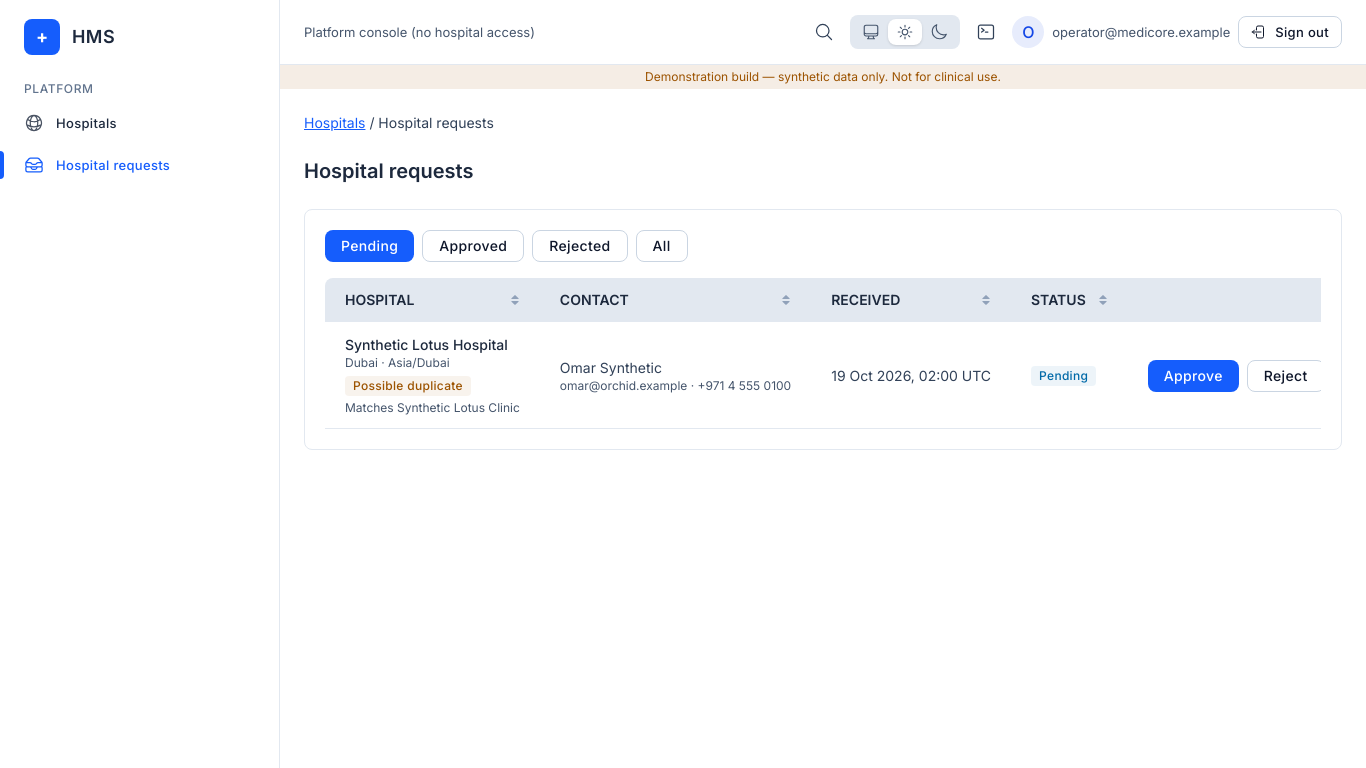
Test case: Platform console › shows a possible duplicate and requires a confirm before approve
The image size is (1366, 768).
Check: the row with test id "hospital-request-row" shows "Possible duplicate", box [353,378,463,393]
Check: the row with test id "hospital-request-row" shows "Matches Synthetic Lotus Clinic", box [325,322,1321,428]
Click the button with aria-label "Approve Synthetic Lotus Hospital" at (1193, 376), box [1148,360,1239,392]
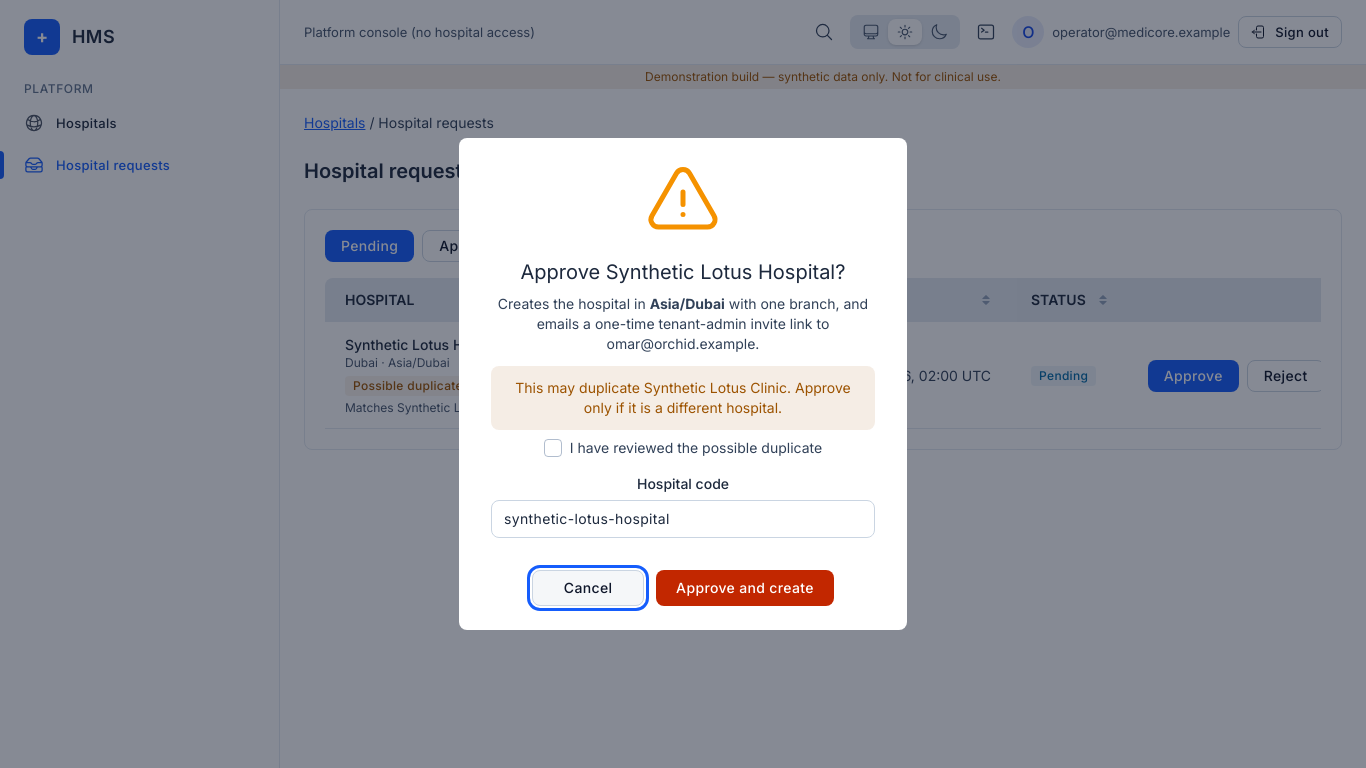
Check: the dialog shows "Synthetic Lotus Clinic", box [515,379,851,416]
Click the button "Approve and create" at (745, 588), box [656,570,834,606]
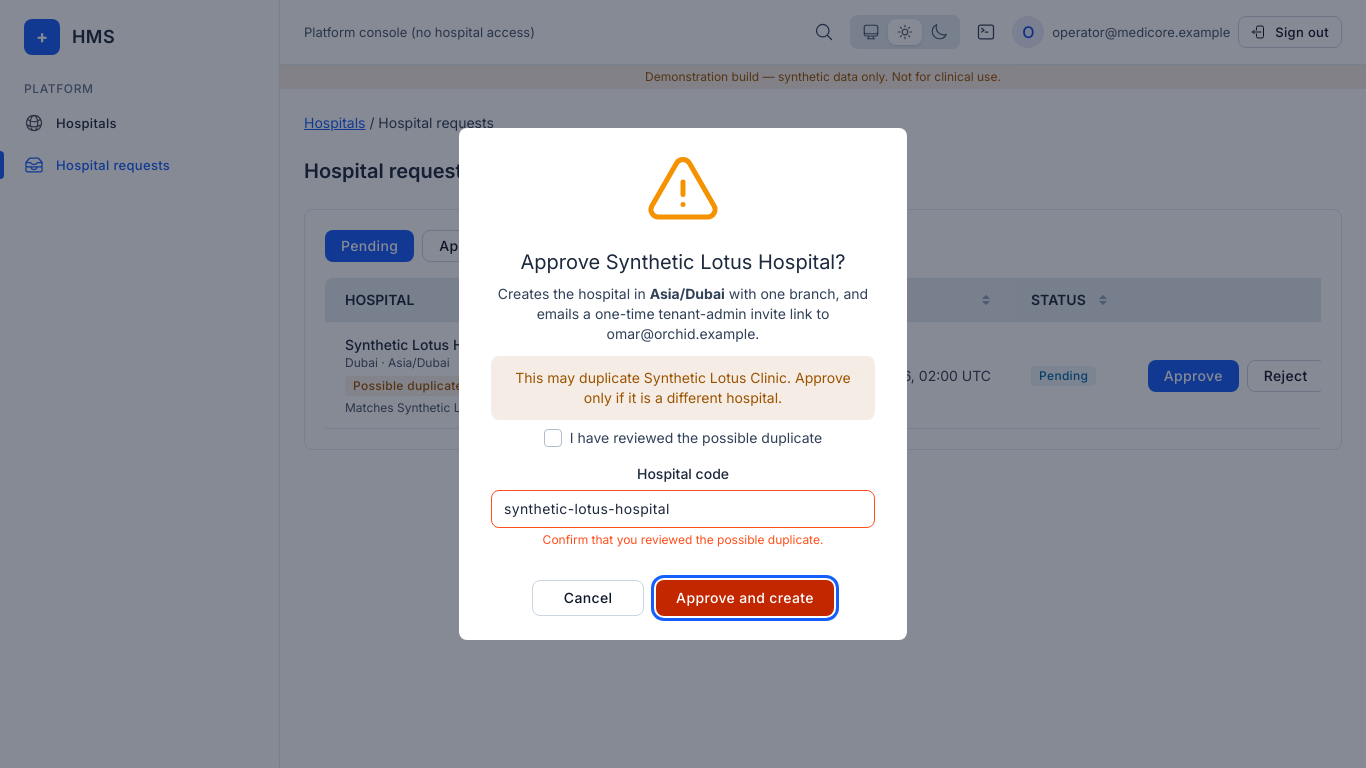
Check: the message "Confirm that you reviewed the possible duplicate." is shown, box [543,532,823,547]
Click the checkbox labelled "I have reviewed the possible duplicate" at (553, 438), box [544,429,562,447]
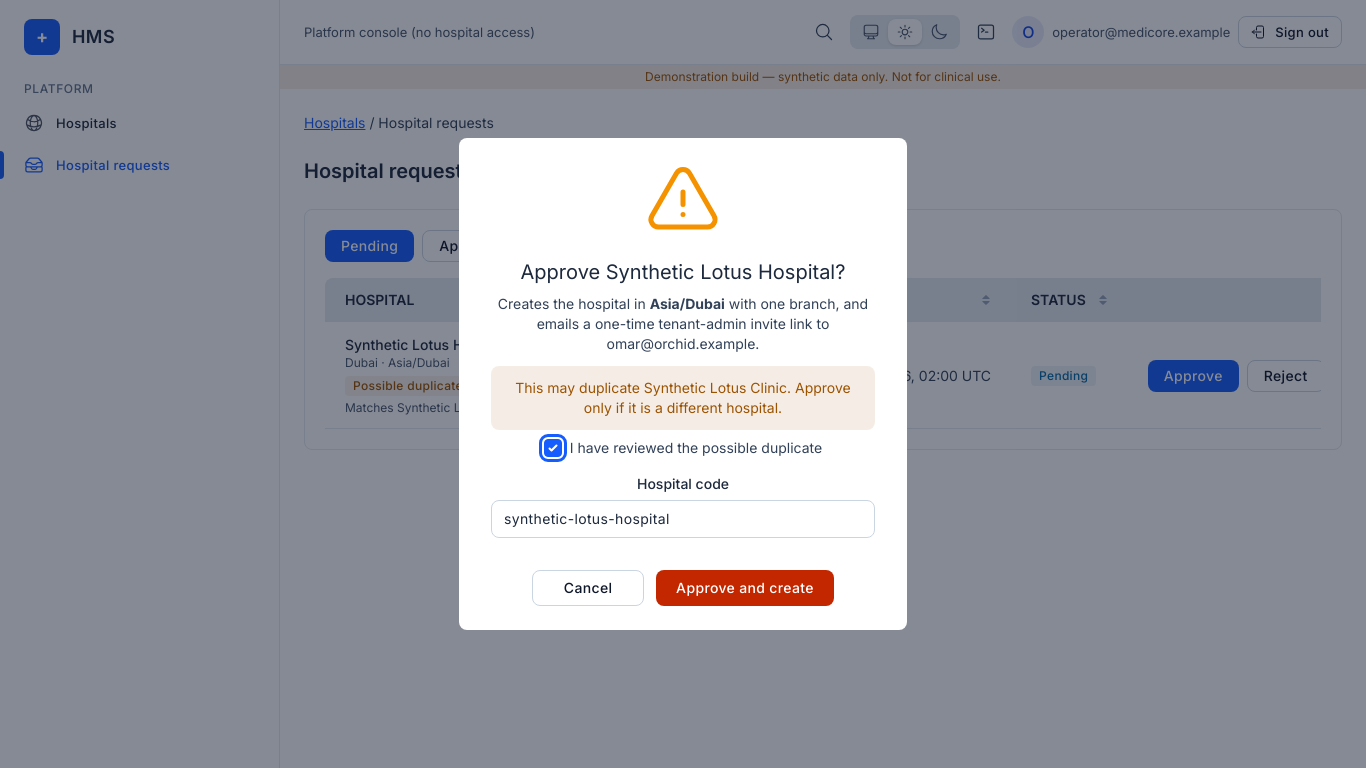
Click the button "Approve and create" at (745, 588), box [656,570,834,606]
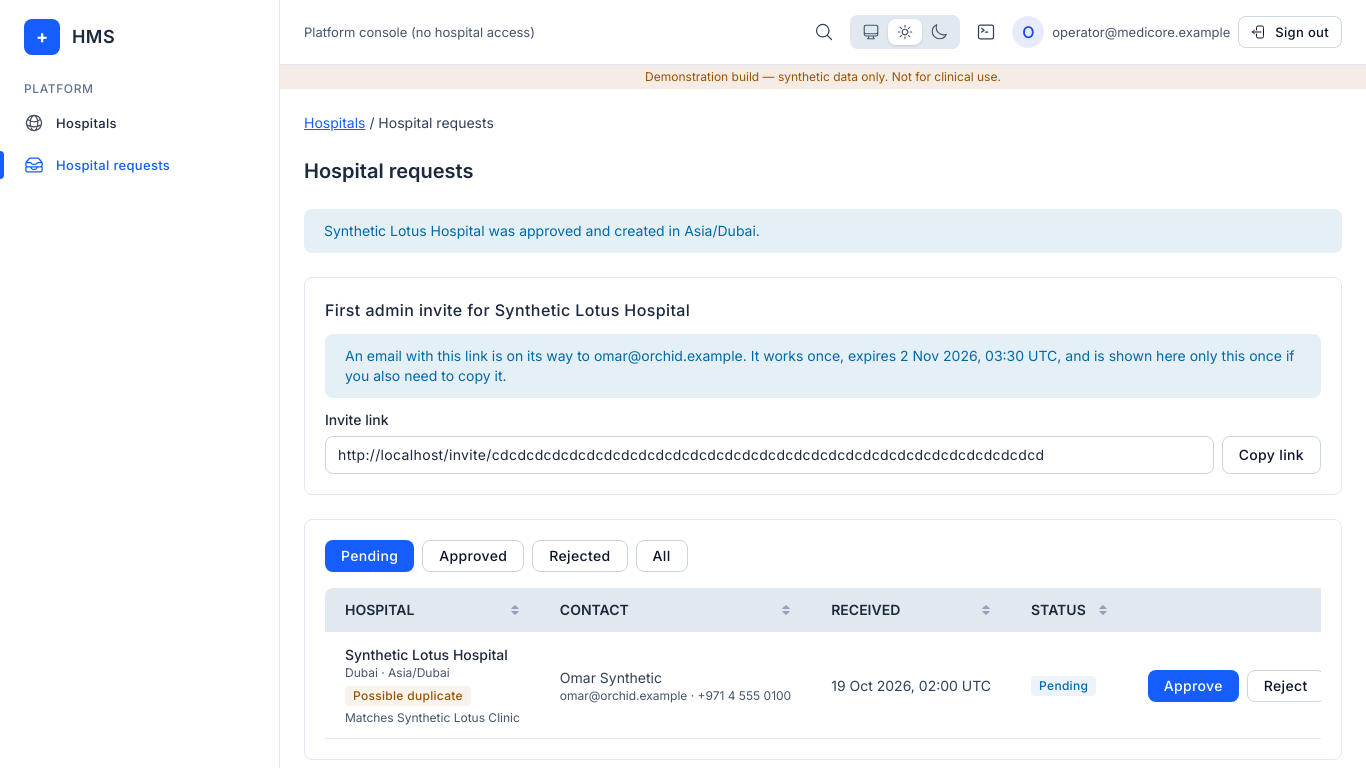
Check: the element with test id "invite-link-notice" is shown, box [325,334,1321,474]
